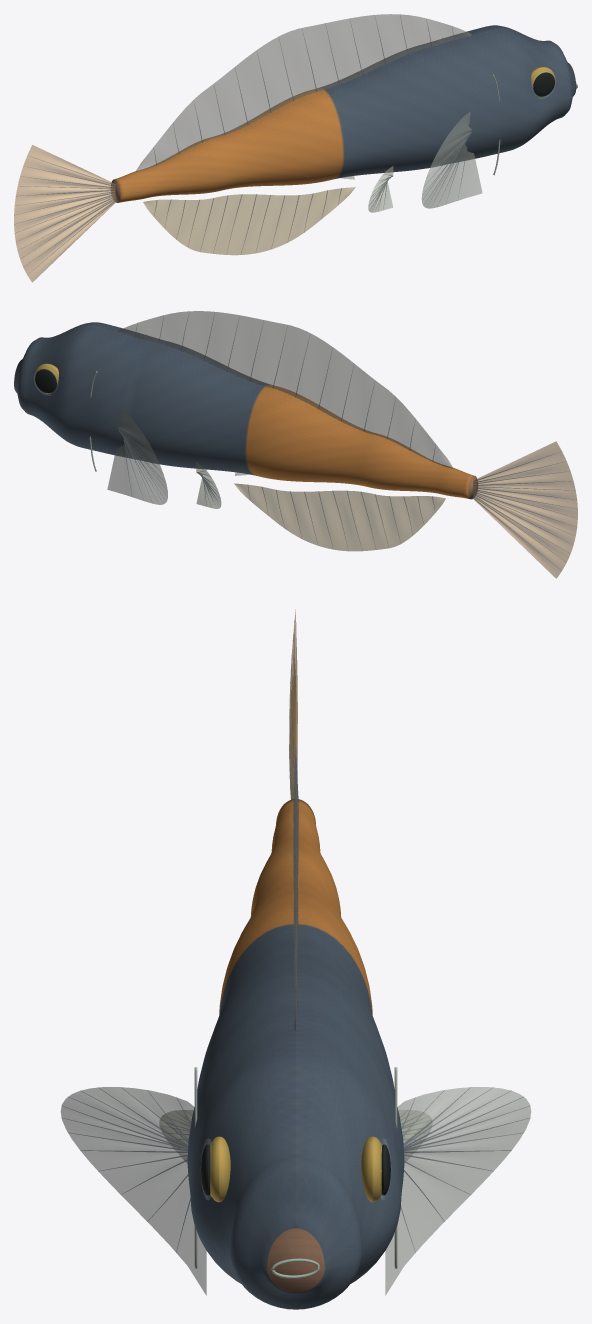
File: bicolor-desktop.glb
The picture shows the model from 3 angles, top to bottom: view 1: azimuth 30°, elevation 25°; view 2: azimuth 150°, elevation 25°; view 3: azimuth 270°, elevation 25°; orthographic projection. The views are drawn at different scales.
Visible parts, largest first — view 1: skin, dorsal, anal, tail, pectoral-left, dorsal-ray, pelvic-left, eye-pupil--1; view 2: skin, dorsal, anal, tail, pectoral-left, dorsal-ray, pelvic-left, eye-pupil--1; view 3: skin, pectoral-left, dorsal-ray, eye-iris--1, pelvic-left, tail, operculum, dorsal.
Part boxes in pixels (box(x1,y1,x2,y2)): skin: box(111, 25, 576, 202); dorsal: box(135, 14, 471, 172); anal: box(143, 187, 355, 255); tail: box(14, 145, 115, 282); pectoral-left: box(421, 112, 482, 208); dorsal-ray: box(14, 16, 472, 267); pelvic-left: box(341, 166, 393, 212); eye-pupil--1: box(533, 72, 554, 96); skin: box(14, 322, 477, 499); dorsal: box(118, 311, 453, 468); anal: box(234, 483, 445, 551); tail: box(473, 441, 577, 578); pectoral-left: box(107, 408, 167, 504); dorsal-ray: box(117, 312, 576, 566); pelvic-left: box(196, 462, 248, 508); eye-pupil--1: box(35, 369, 56, 393); skin: box(187, 799, 404, 1309); pectoral-left: box(60, 1087, 531, 1295); dorsal-ray: box(62, 620, 529, 1251); eye-iris--1: box(210, 1136, 381, 1202); pelvic-left: box(159, 1110, 432, 1162); tail: box(289, 609, 297, 799); operculum: box(194, 1067, 397, 1278); dorsal: box(293, 750, 298, 1030).
Size of the model in its own units: 0.5852 by 0.2144 by 0.2136.
11 materials, 1 textured.
